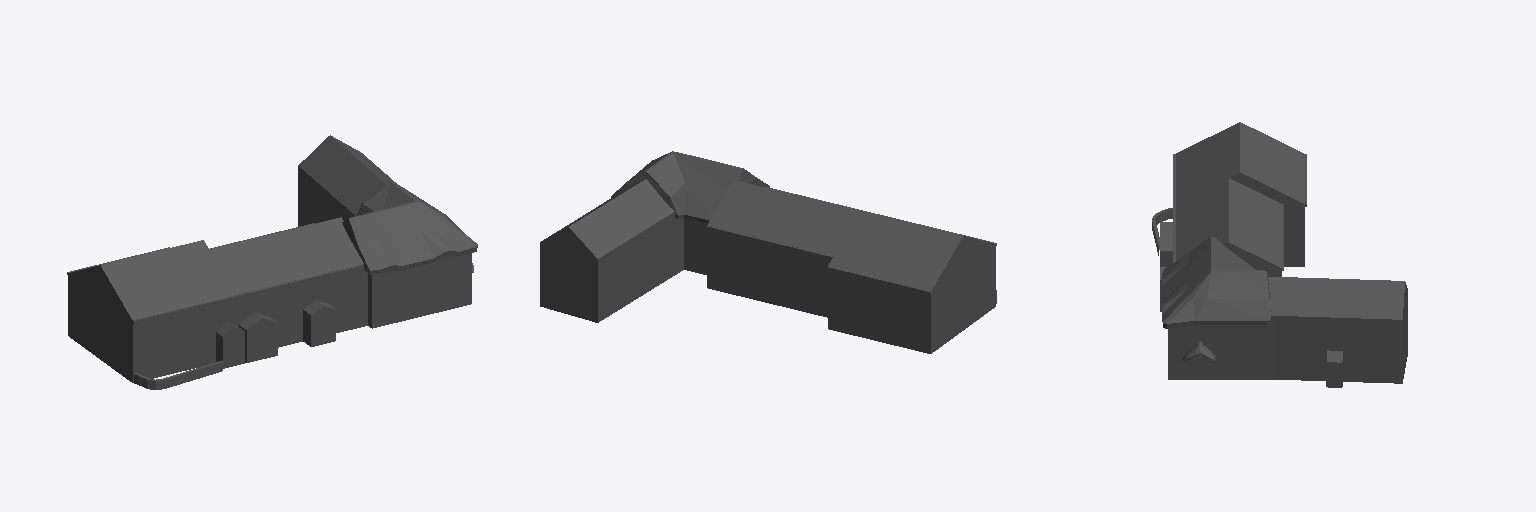
Rendered from cottages_low.obj.
The picture shows the model from 3 angles: view 1: azimuth 30°, elevation 25°; view 2: azimuth 150°, elevation 25°; view 3: azimuth 270°, elevation 25°; orthographic projection.
Visible parts, largest first — view 1: cottages; view 2: cottages; view 3: cottages.
Boxes of the visible parts, x1,y1,x2,y2 form: cottages: [67, 135, 477, 389]; cottages: [540, 151, 996, 353]; cottages: [1152, 122, 1407, 387].
Size of the model in its own units: 1109 by 292 by 700.